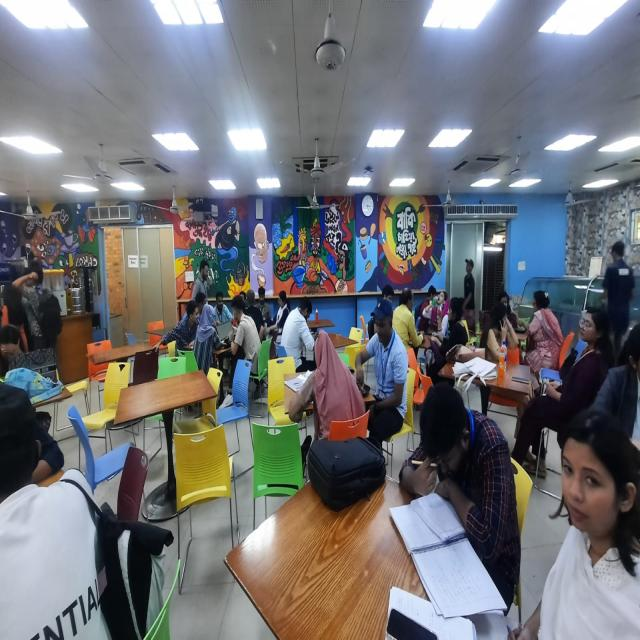absent-minded: (524, 407, 640, 640)
eating: (355, 300, 407, 432), (422, 292, 448, 335)
group-studying: (187, 292, 246, 357)
self-studying: (386, 385, 530, 622)
